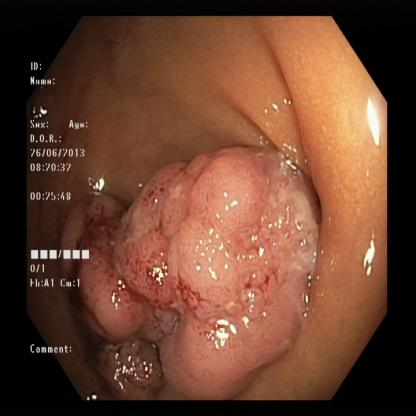Labels: (29, 55, 91, 358)
Polyps: (142, 146, 303, 350), (68, 216, 170, 393)
